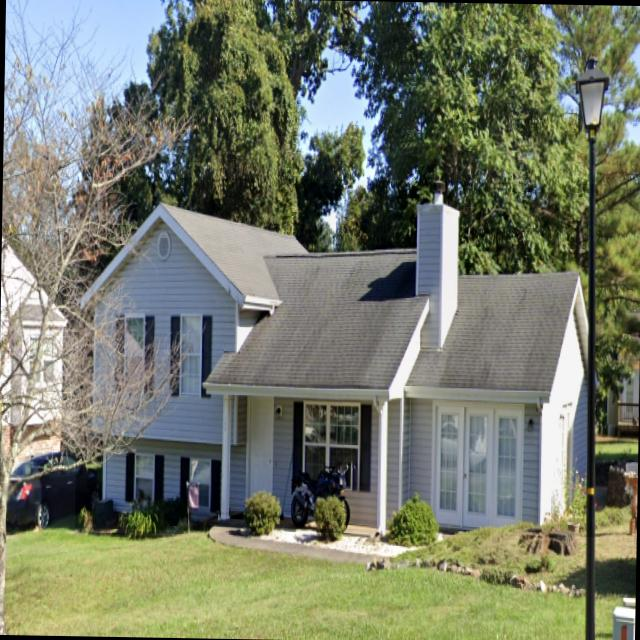House: (74, 175, 600, 537)
